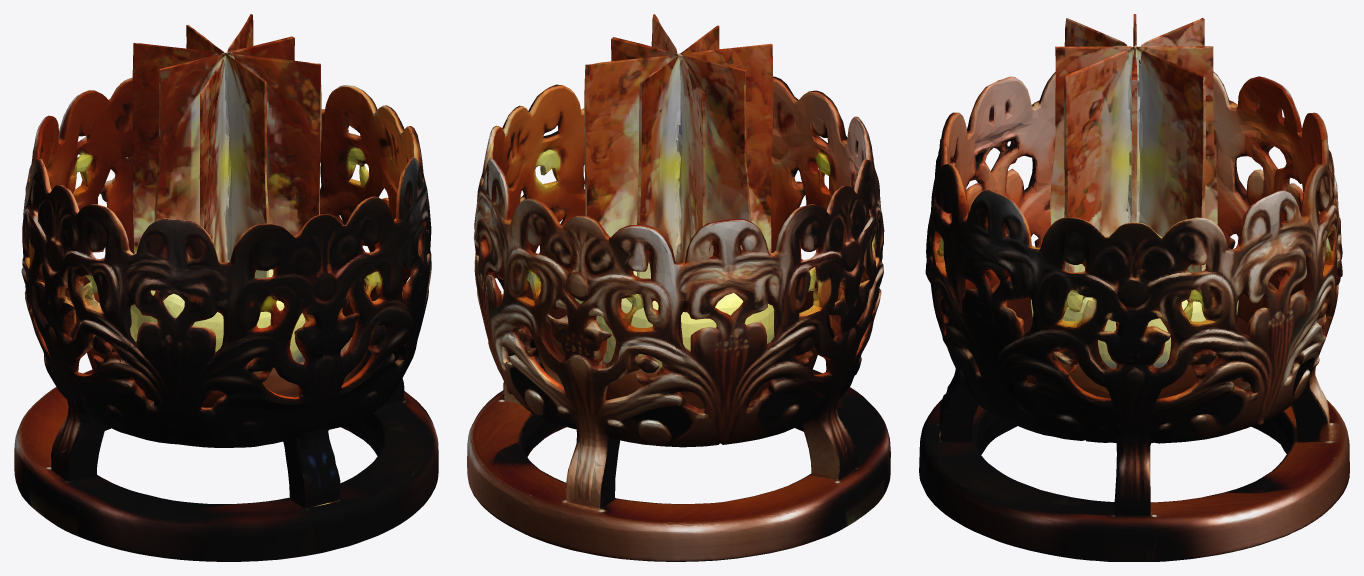
Rendered from wooden-candle-holder-vintage.jpeg.glb.
3 views of the same model, side by side, from view 1: azimuth 30°, elevation 25°; view 2: azimuth 150°, elevation 25°; view 3: azimuth 270°, elevation 25° (orthographic).
Parts seen in each view (by area): view 1: world; view 2: world; view 3: world.
Boxes of the visible parts, x1,y1,x2,y2 form: world: [14, 14, 438, 561]; world: [467, 14, 890, 561]; world: [919, 14, 1349, 561].
Size of the model in its own units: 0.9165 by 1 by 0.9204.
1 material, 1 textured.
